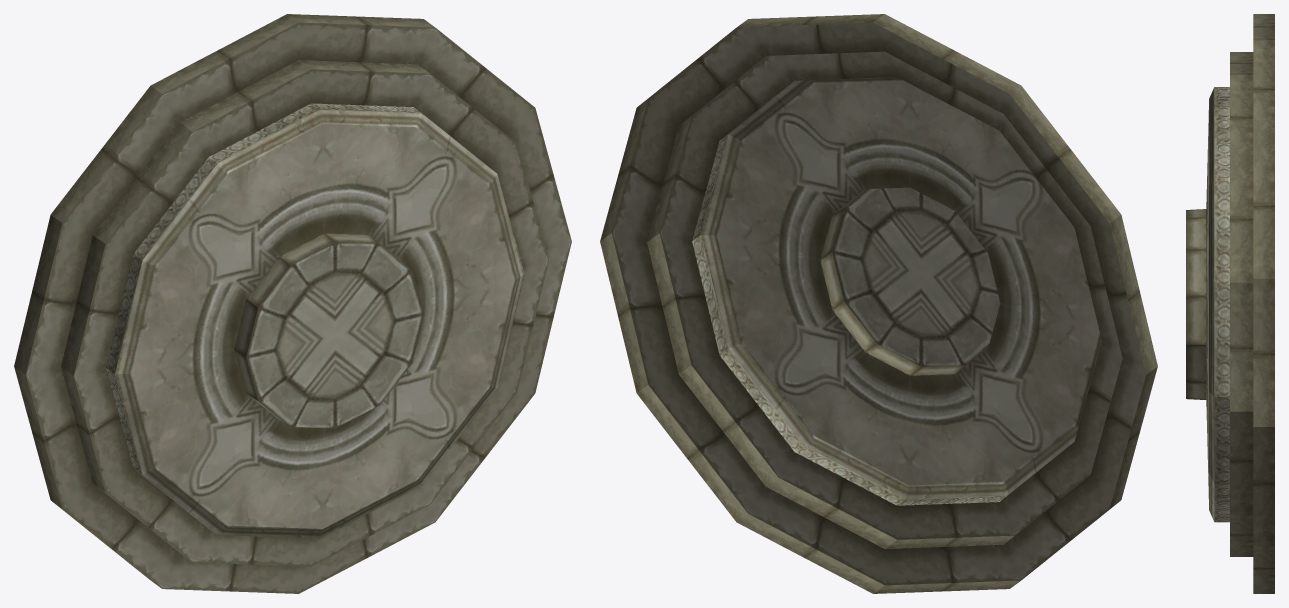
File: world_jitan.obj
The picture shows the model from 3 angles, left to right: view 1: azimuth 30°, elevation 25°; view 2: azimuth 150°, elevation 25°; view 3: azimuth 270°, elevation 25°; orthographic projection. The views are drawn at different scales.
Visible parts, largest first — view 1: World_jitan; view 2: World_jitan; view 3: World_jitan.
Part boxes in pixels (x1,y1,x2,y2): World_jitan: (14, 14, 571, 593); World_jitan: (600, 14, 1157, 593); World_jitan: (1186, 14, 1274, 593).
Bounding box in the file's own units: 269 × 268 × 40.99.
Materials: 1 (1 with a texture image).
